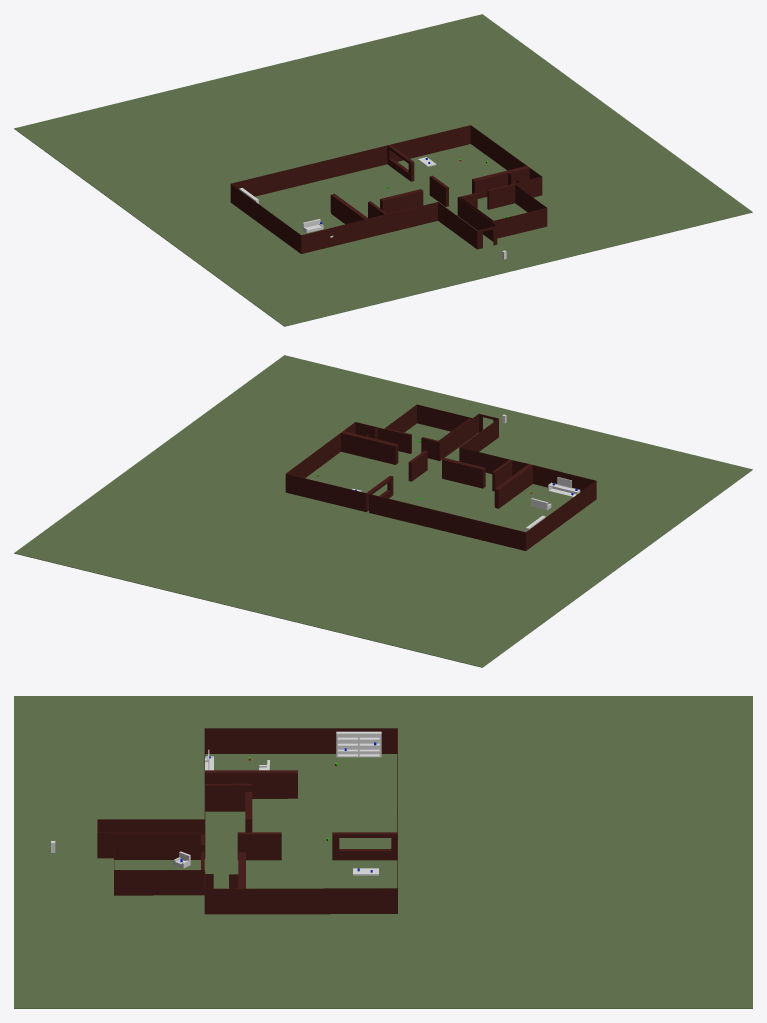
File: first_floor.glb
3 views of the same model, one above another, from view 1: azimuth 30°, elevation 25°; view 2: azimuth 150°, elevation 25°; view 3: azimuth 270°, elevation 25° (orthographic). The views are drawn at different scales.
Parts seen in each view (by area): view 1: Floor-col, Walls-col; view 2: Floor-col, Walls-col; view 3: Floor-col, Walls-col, Bookshelf-col.
Boxes of the visible parts, x1,y1,x2,y2 form: Floor-col: (14,14,752,326); Walls-col: (230,125,547,253); Floor-col: (14,355,752,667); Walls-col: (285,404,596,550); Floor-col: (14,696,752,1008); Walls-col: (97,728,397,914); Bookshelf-col: (336,731,381,757).
Size of what is drawn, in the model's own units: 172 by 6.85 by 172.
